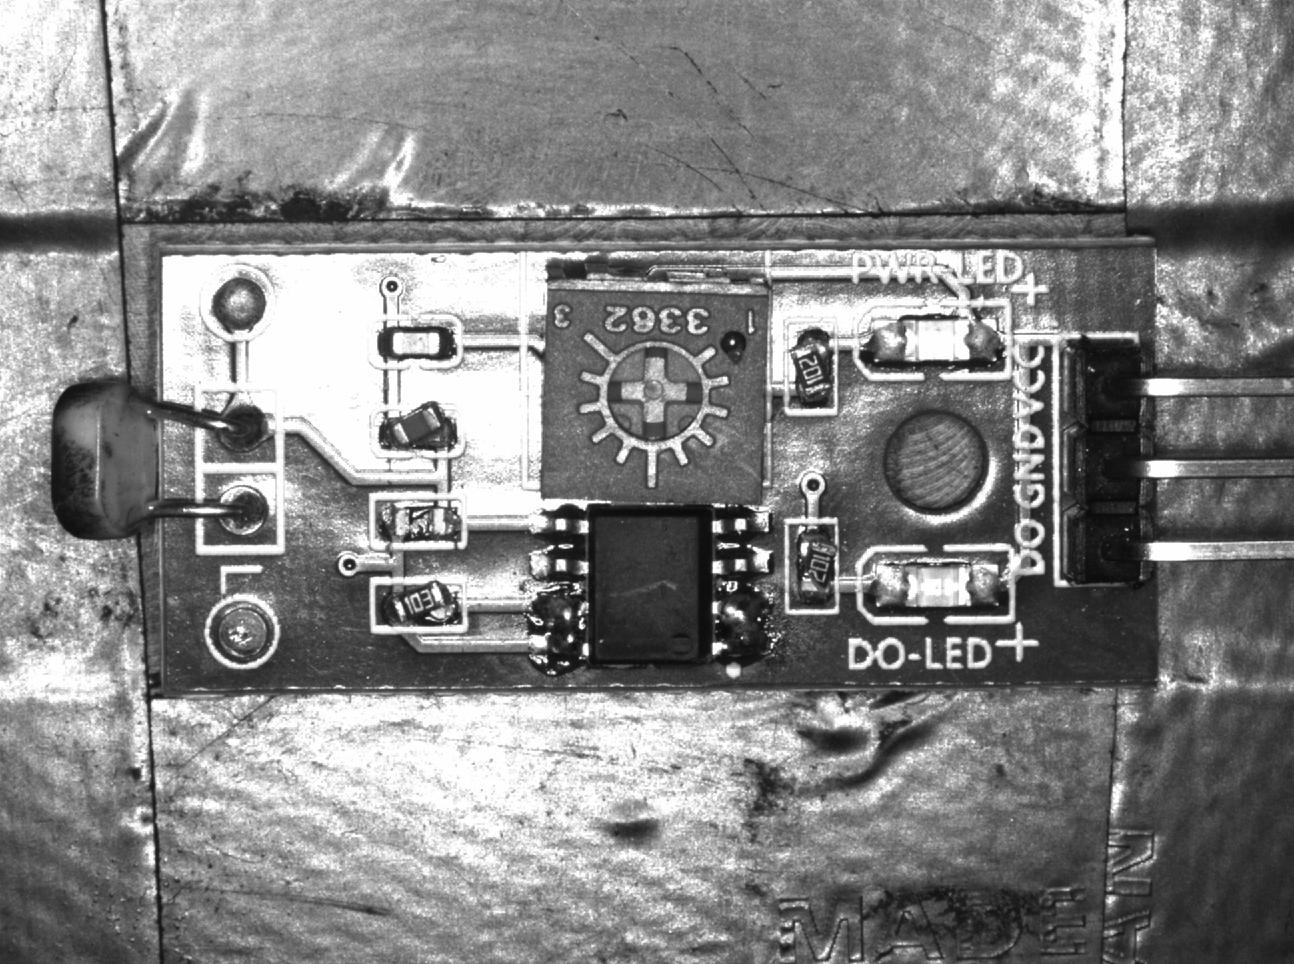bridge: (525, 587, 588, 675), (715, 586, 774, 674)
lifted: (784, 318, 842, 414), (368, 403, 466, 457), (372, 579, 469, 631), (786, 520, 840, 612)
miss: (370, 495, 466, 551)
ok: (369, 317, 462, 367)
